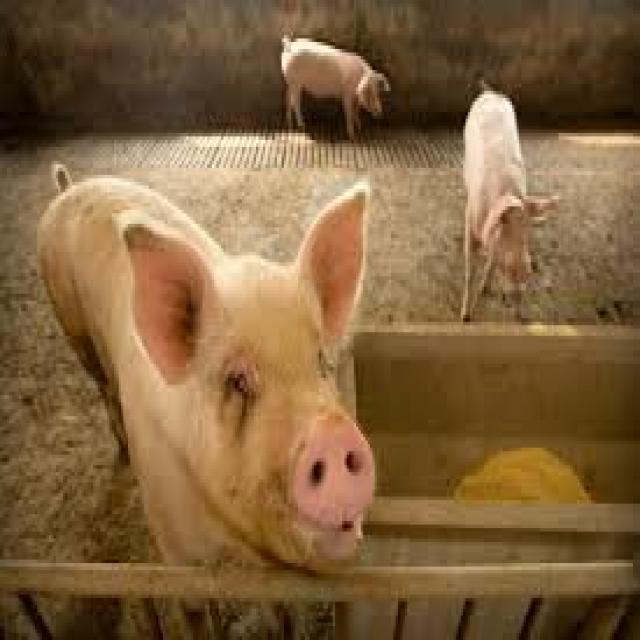Pig: (33, 156, 381, 575), (458, 65, 563, 327), (272, 24, 393, 142)
